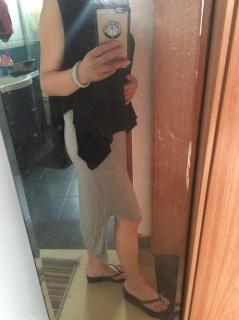vest: (57, 0, 142, 268)
vest dress: (49, 0, 138, 170)
